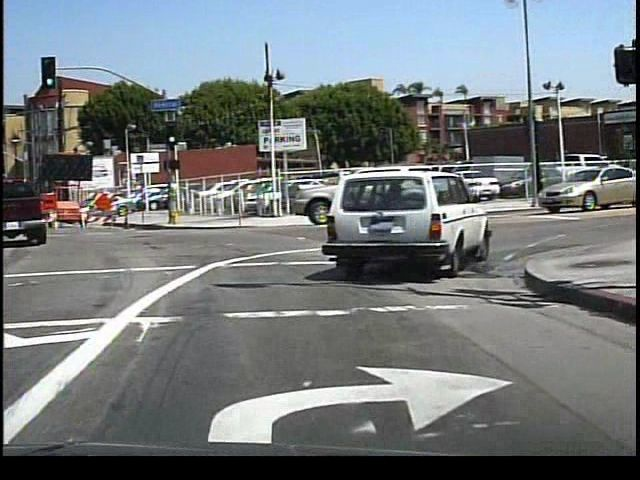person: (527, 162, 546, 206)
